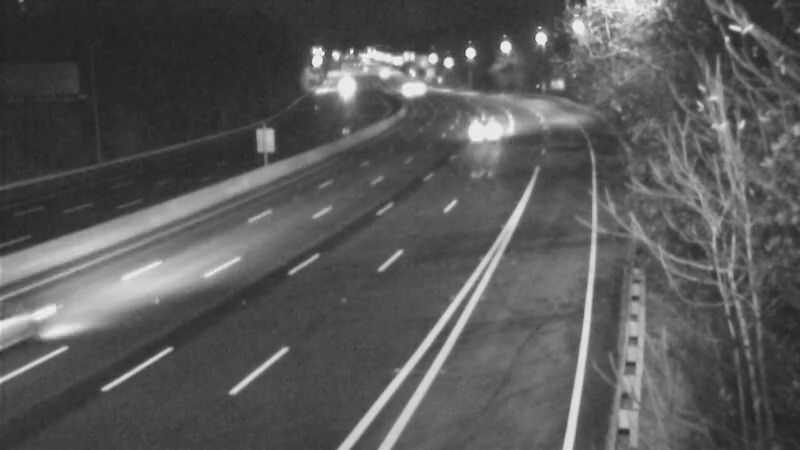vehicle: (397, 62, 447, 112), (381, 67, 431, 117), (457, 101, 507, 151), (323, 59, 373, 109)
